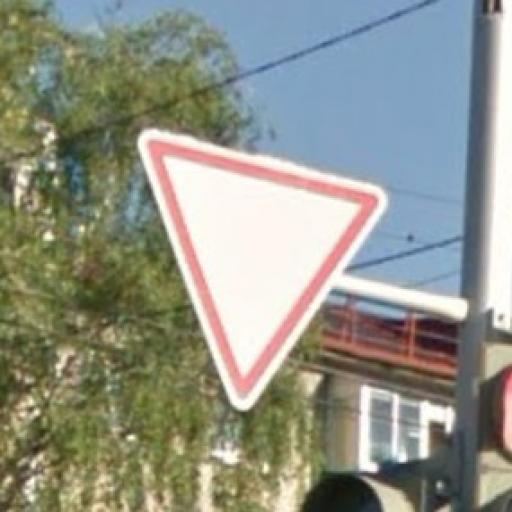traffic_sign: (137, 128, 391, 415)
